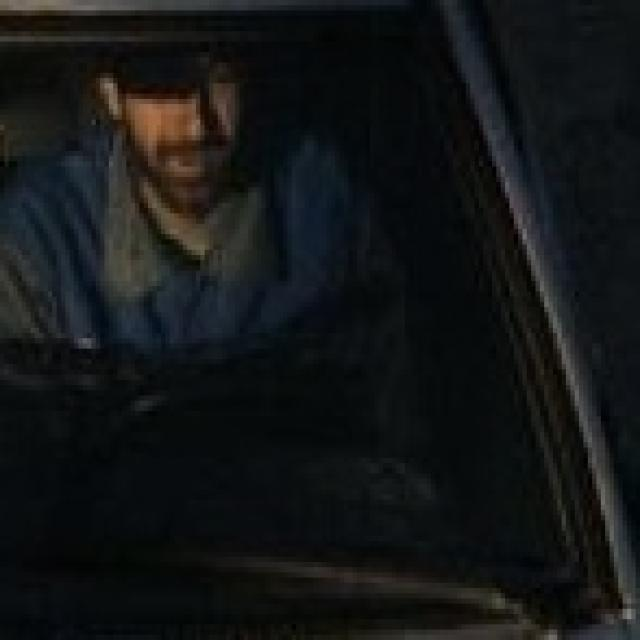No-seat-belt: (8, 16, 580, 545)
